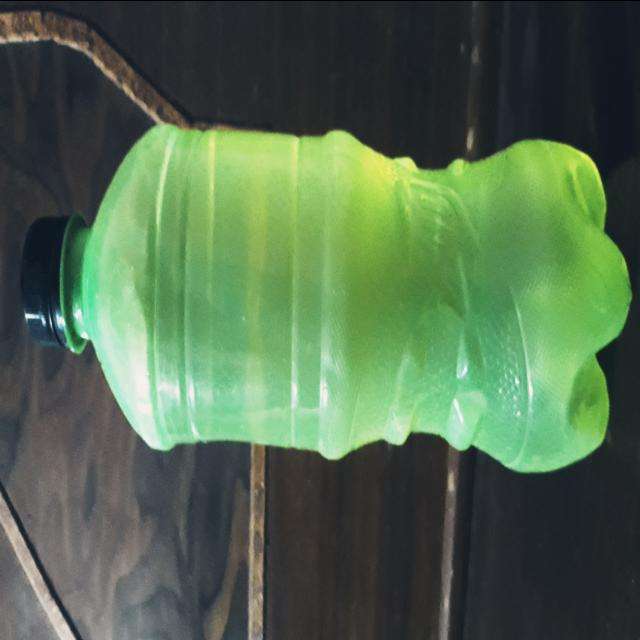寶特瓶: (13, 117, 640, 483)
